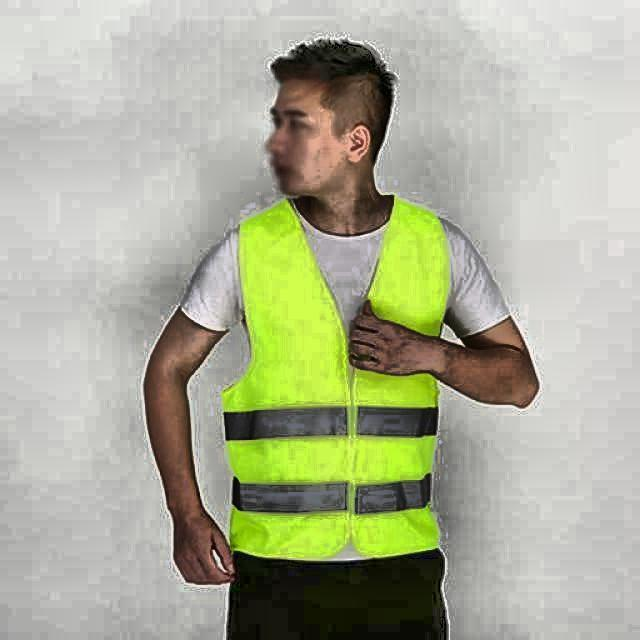safety_jacket: (236, 198, 449, 554)
